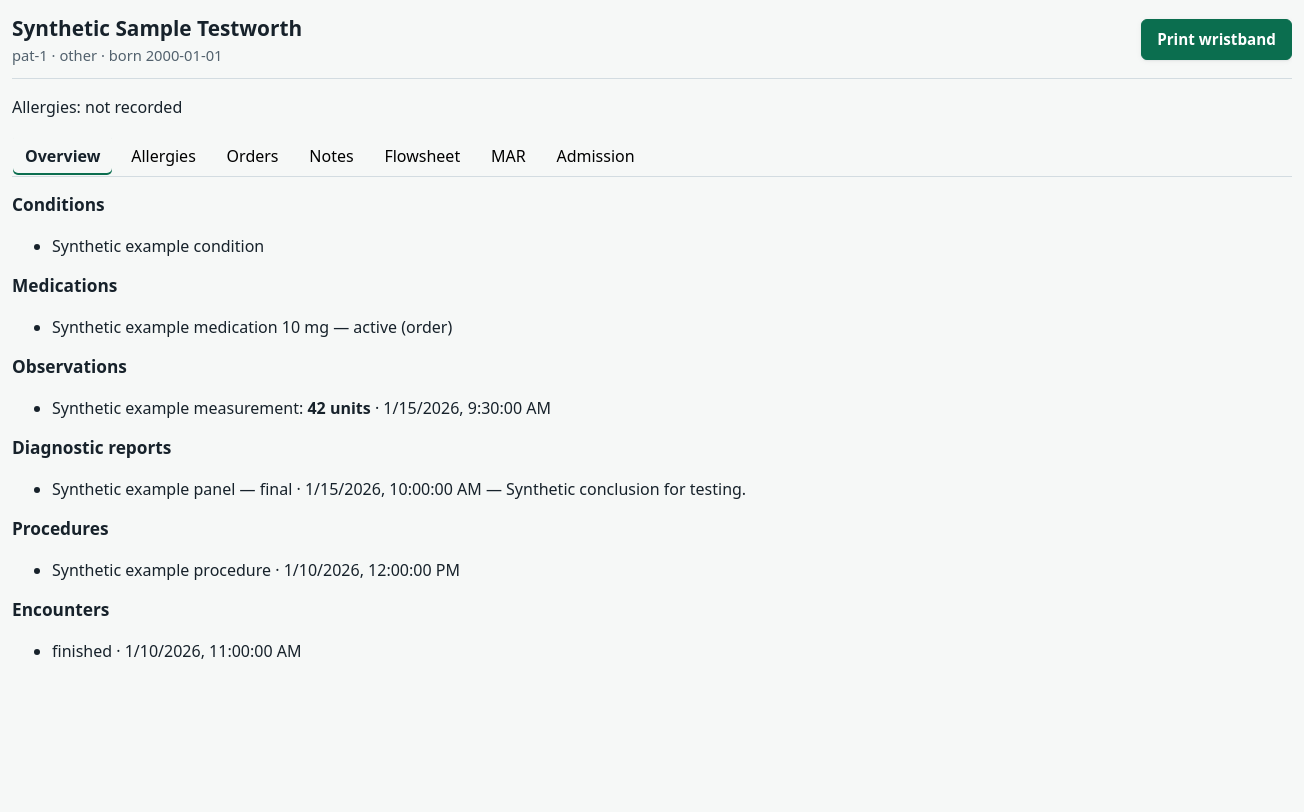
Test: ChartPage Phase 5 tabs › orders tab hides placement and actions from a viewer role
The image size is (1304, 812).
Expected: the heading "Synthetic Sample Testworth" is shown, x1=12 y1=15 x2=302 y2=41
Click the tab "Orders".
click(253, 156)  # box x1=214 y1=135 x2=292 y2=176
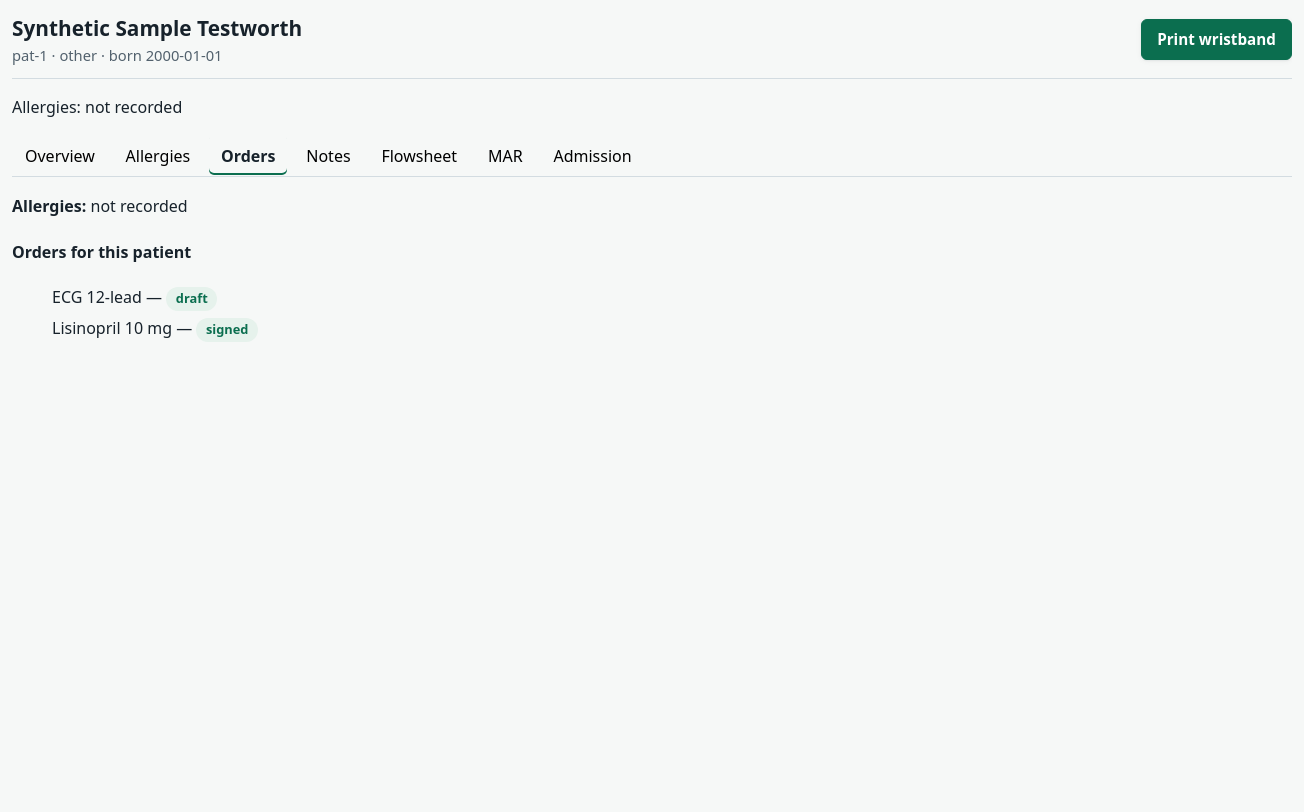
Expected: the text "ECG 12-lead — draft" is shown, x1=52 y1=285 x2=217 y2=310
